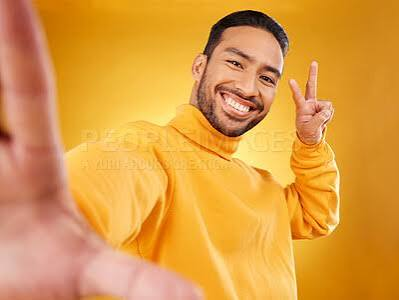peace_sign: (286, 58, 338, 141)
